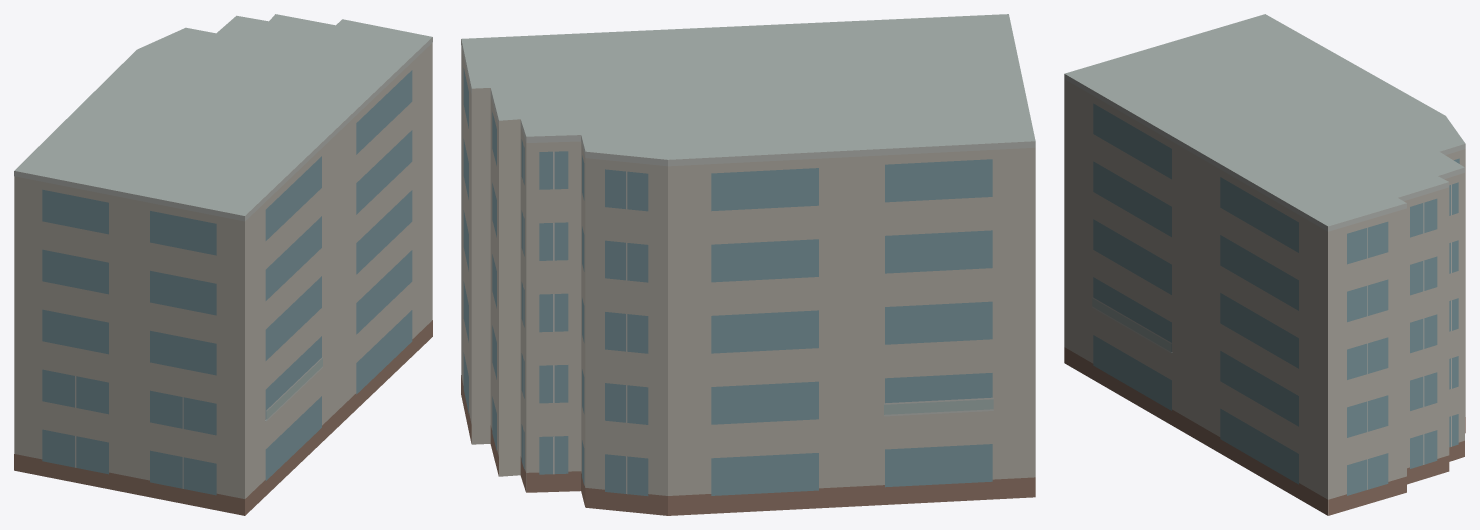
The model's file is survey-upis-32683448.glb.
3 renders of one model, left to right at view 1: azimuth 30°, elevation 25°; view 2: azimuth 150°, elevation 25°; view 3: azimuth 270°, elevation 25°, orthographic. The views are drawn at different scales.
Visible parts, largest first — view 1: survey-upis-32683448.tmp; view 2: survey-upis-32683448.tmp; view 3: survey-upis-32683448.tmp.
Boxes of the visible parts, x1,y1,x2,y2 form: survey-upis-32683448.tmp: [14, 14, 432, 515]; survey-upis-32683448.tmp: [461, 14, 1035, 515]; survey-upis-32683448.tmp: [1064, 14, 1465, 515].
Size of the model in its own units: 21.19 by 13.45 by 16.91.
